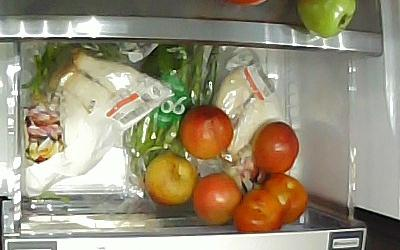prune: (177, 103, 233, 159), (143, 150, 197, 205), (190, 170, 242, 224), (250, 119, 299, 174), (260, 174, 309, 225), (231, 188, 283, 233)
